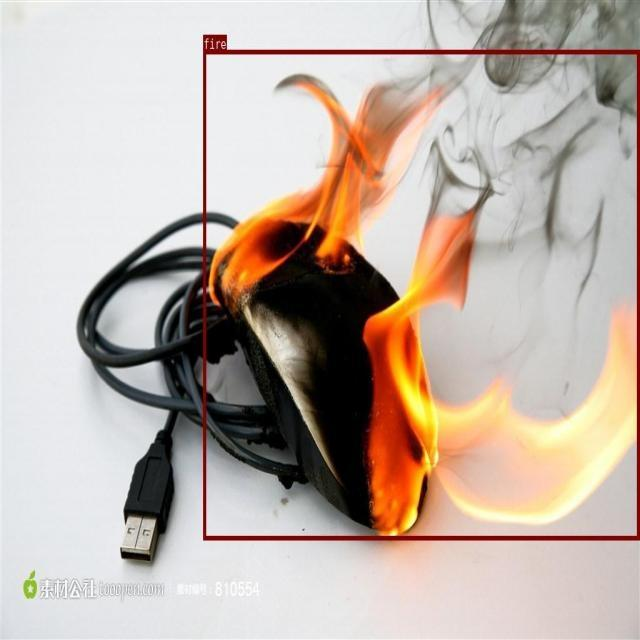fire: (203, 50, 639, 539)
